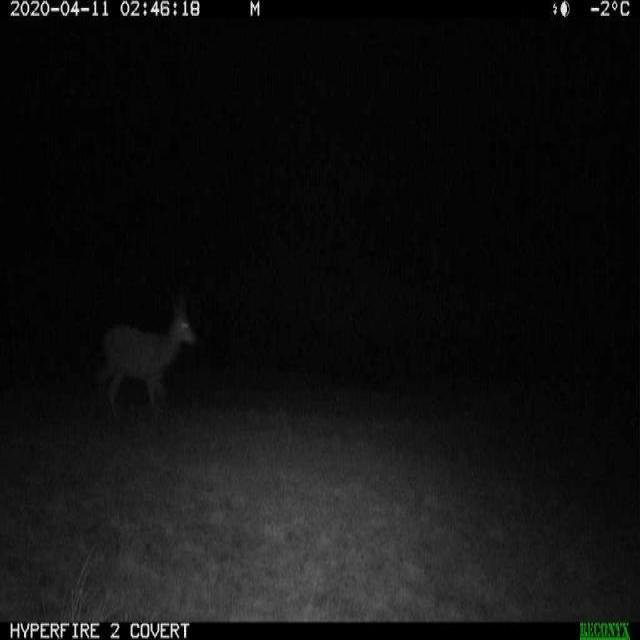deer: (88, 287, 208, 437)
